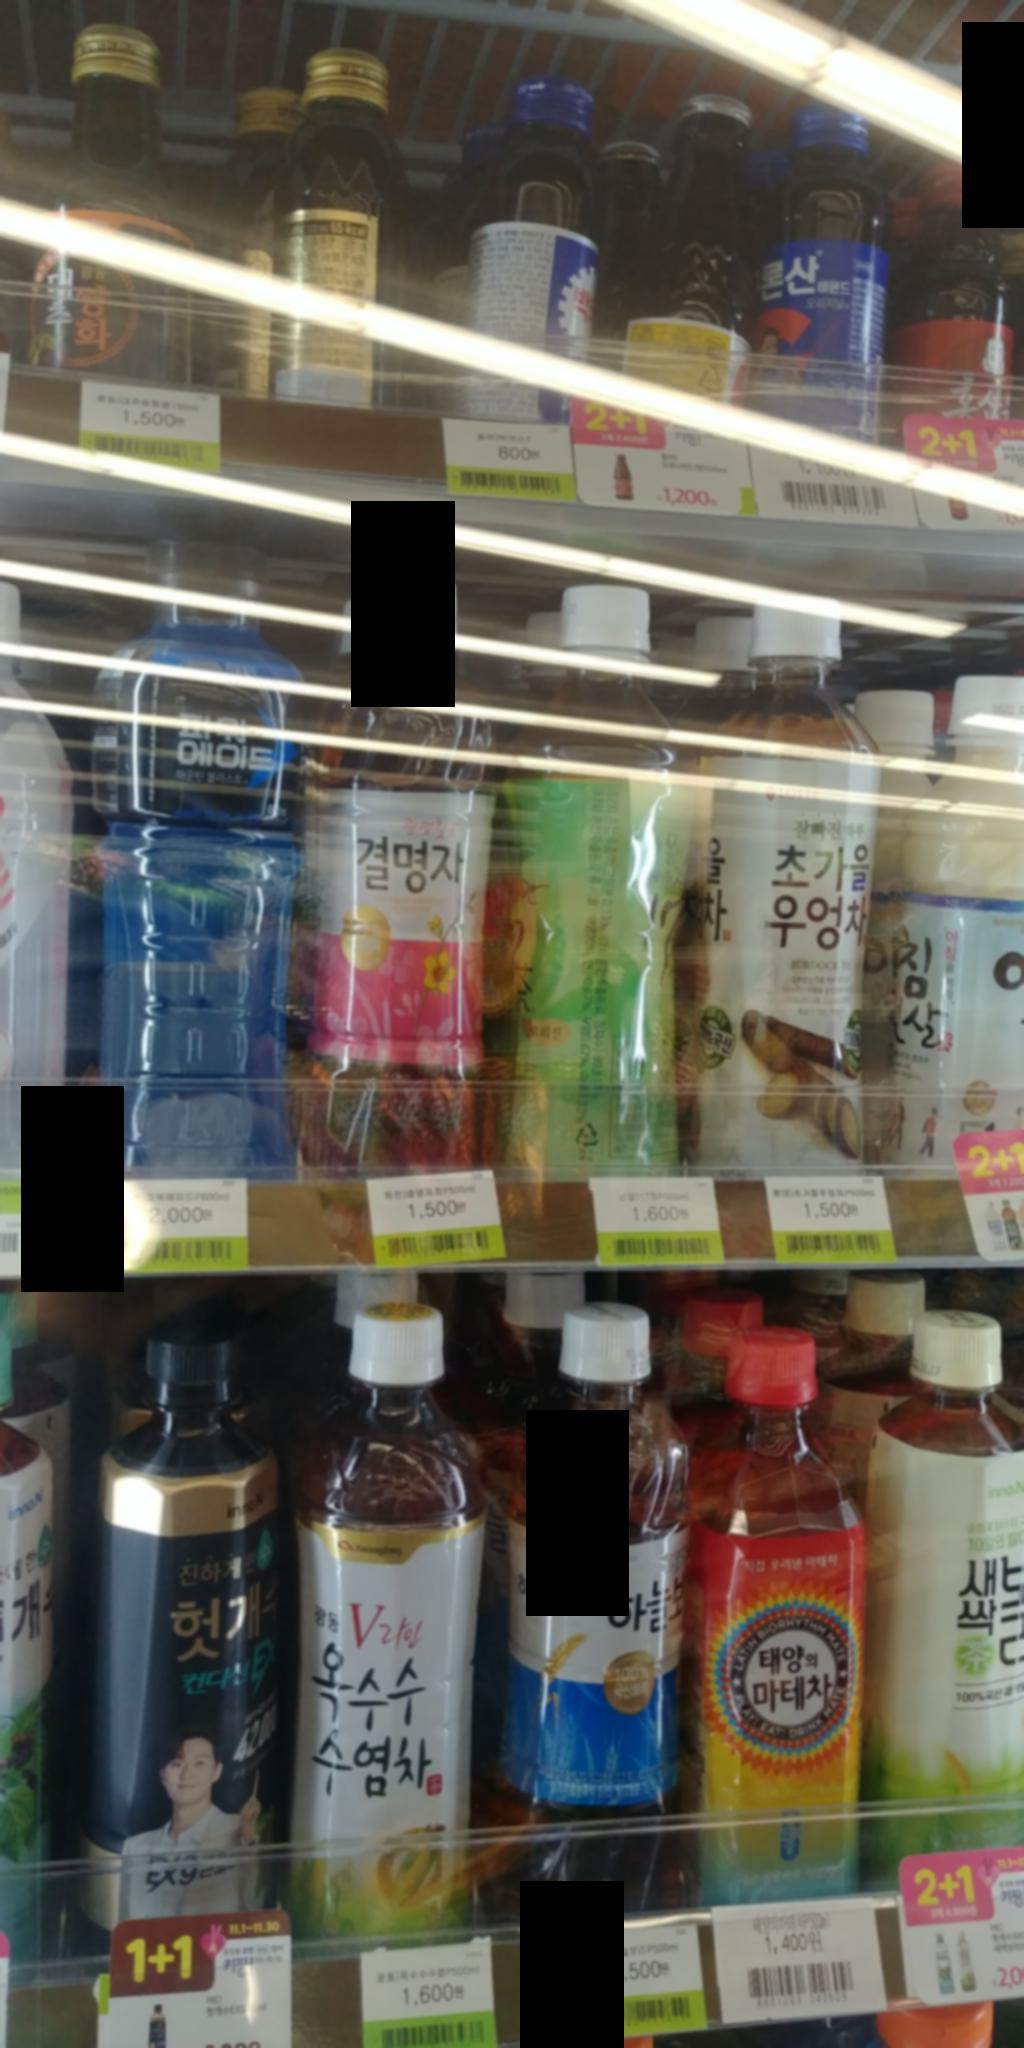haneulbori: (494, 1297, 718, 1907)
oksususuyeomcha: (296, 1293, 499, 1940)
powerade_mountainblast: (81, 519, 315, 1195)
